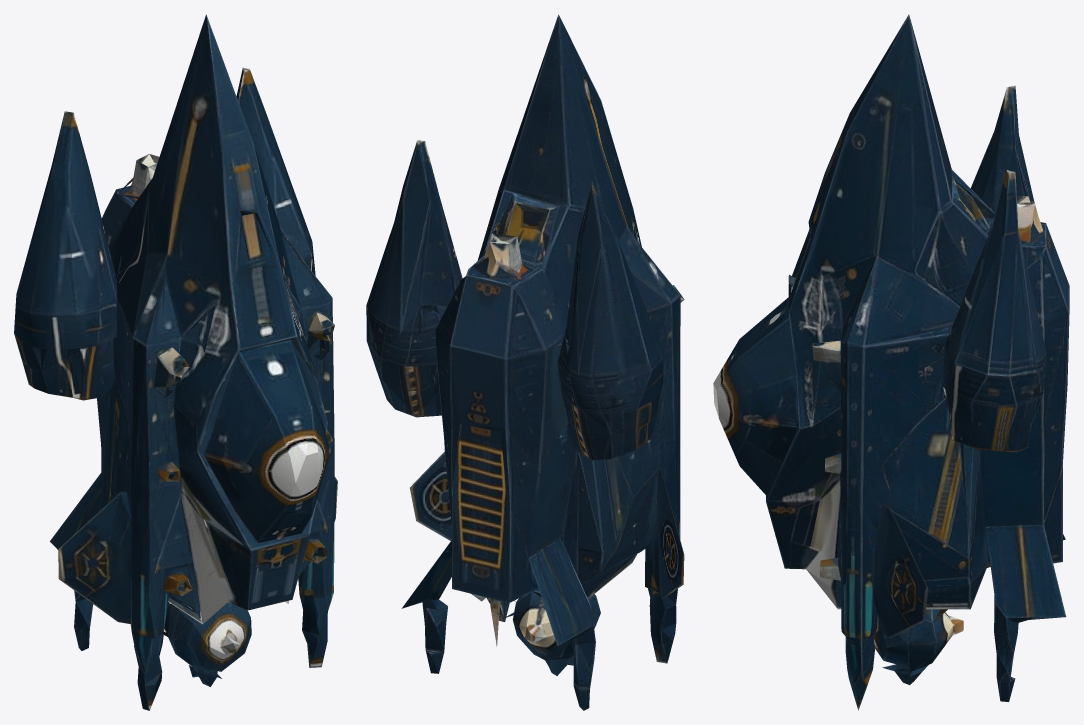
The model's file is nation-w-scout.glb.
3 views of the same model, side by side, from view 1: azimuth 30°, elevation 25°; view 2: azimuth 150°, elevation 25°; view 3: azimuth 270°, elevation 25° (orthographic).
Size of the model in its own units: 0.7881 by 1.75 by 0.8473.
Materials: 1 (1 with a texture image).
